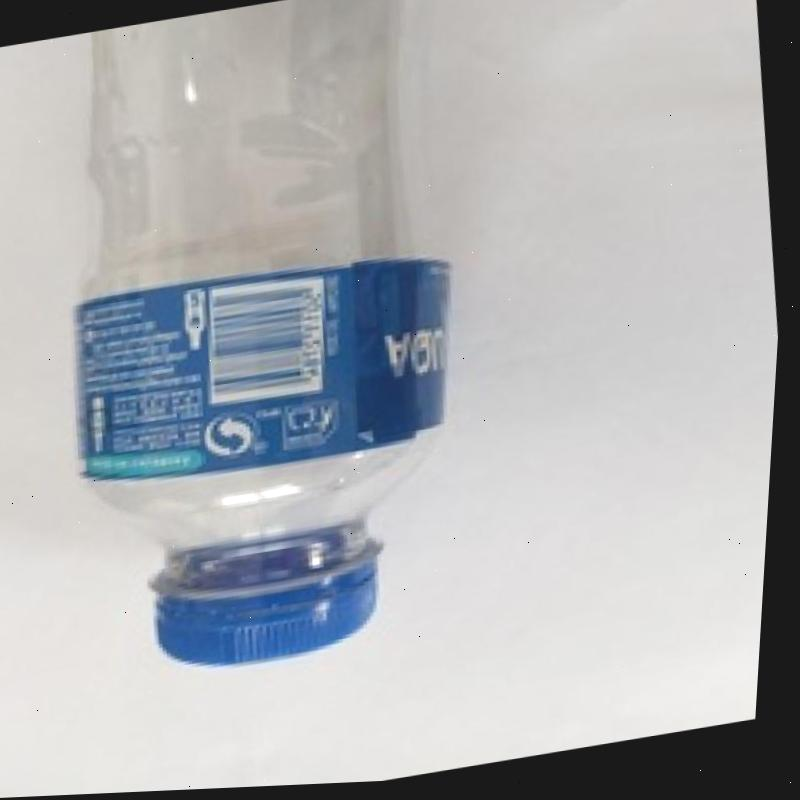botella: (20, 0, 514, 694)
